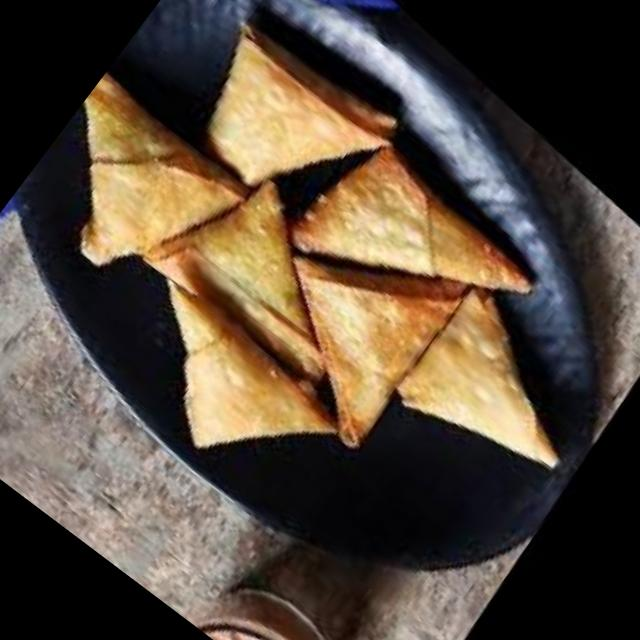samosa: (276, 125, 560, 392), (135, 140, 410, 403), (232, 178, 495, 450), (7, 66, 269, 323), (100, 264, 364, 512), (169, 5, 424, 255), (390, 276, 626, 506)
